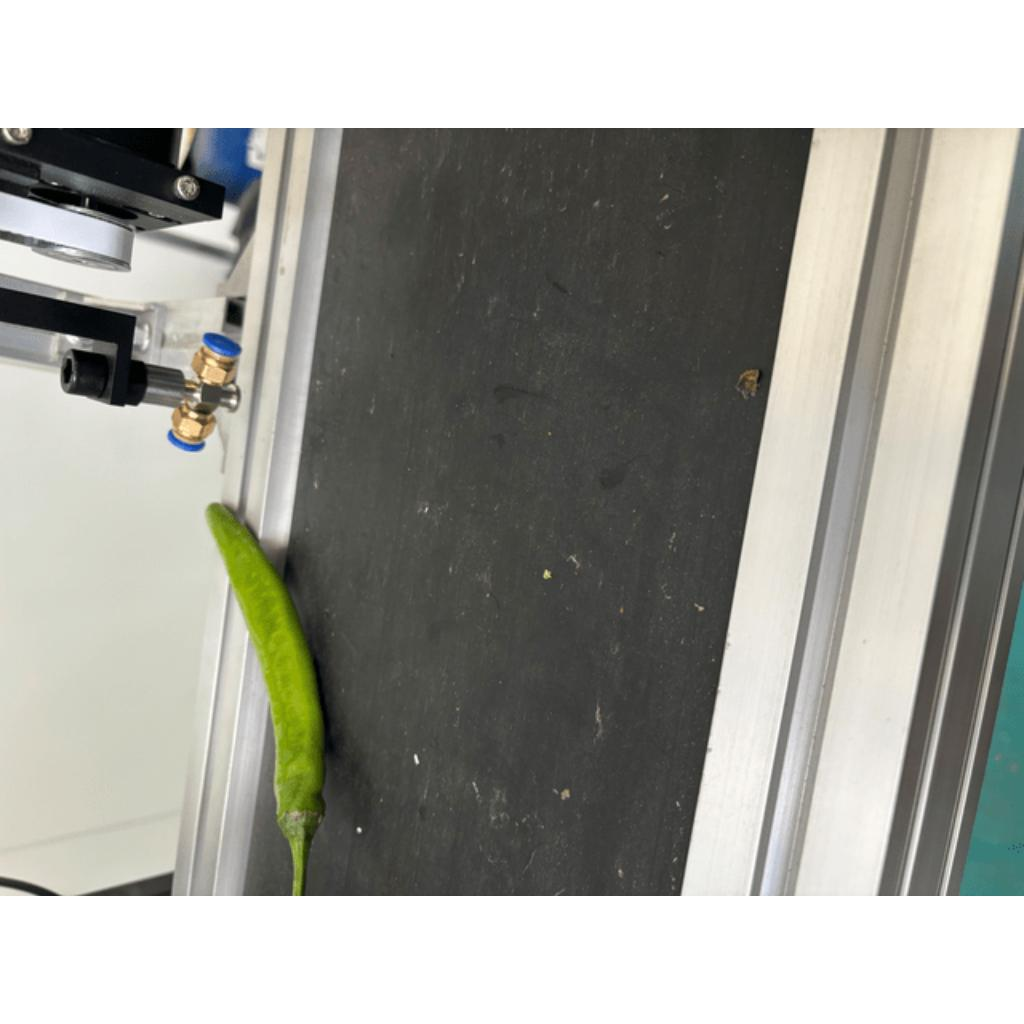chili: (201, 497, 332, 846)
